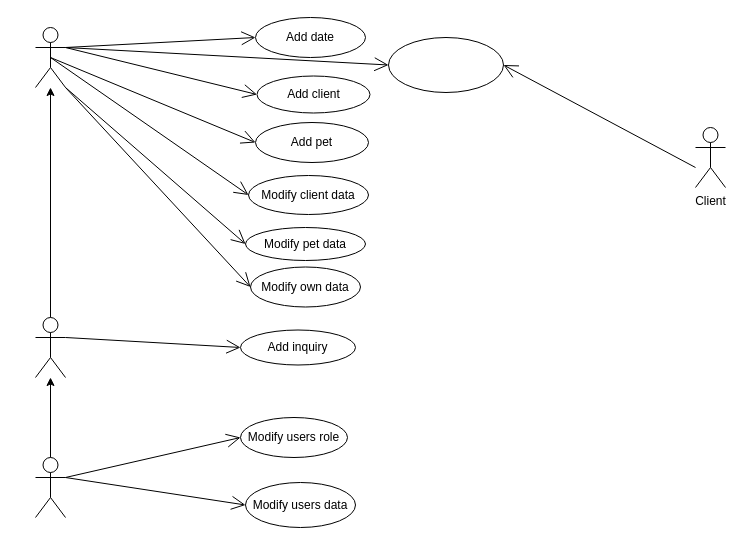
The diagram is 743 pixels wide and 556 high, and some of its shapes have lost their labels. The shapes that lost their labels are listed below. From the top down, each one's centre as x and y in pixels, then its label:
[50,57]: Receptionist
[446,64]: View inquiry
[50,347]: Vet
[50,487]: Admin
